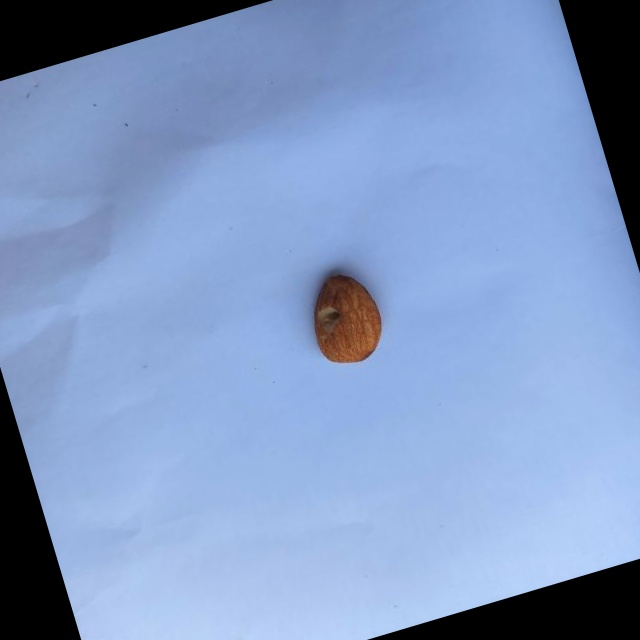grade3: (294, 261, 394, 377)
